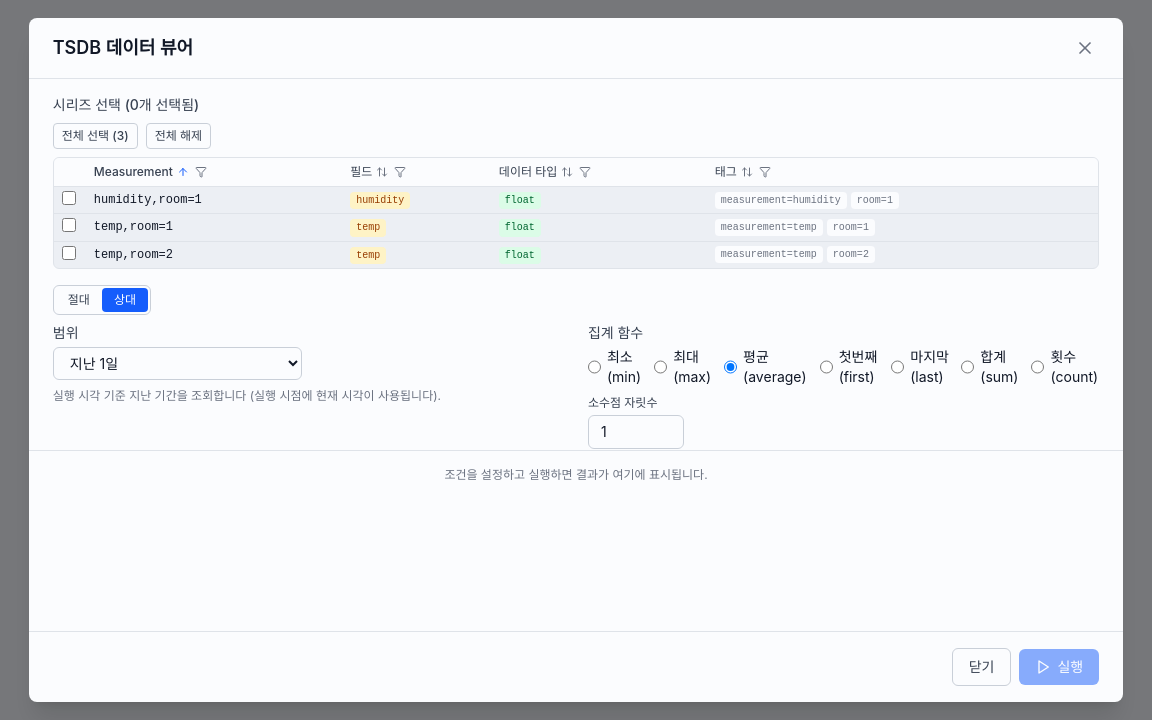
it: SeriesDataViewerModal › 모달 오픈 시 기본 시간 범위 = 지난 1일 (end=현재, start=현재-24h)
This screenshot has width=1152, height=720.
Note: 기본 모드는 상대이지만 절대 모드의 datetime 입력 초기값을 검증한다.
Click the tab with test id "tsdb-range-mode-absolute": point(79, 300) 56,288 -> 102,312
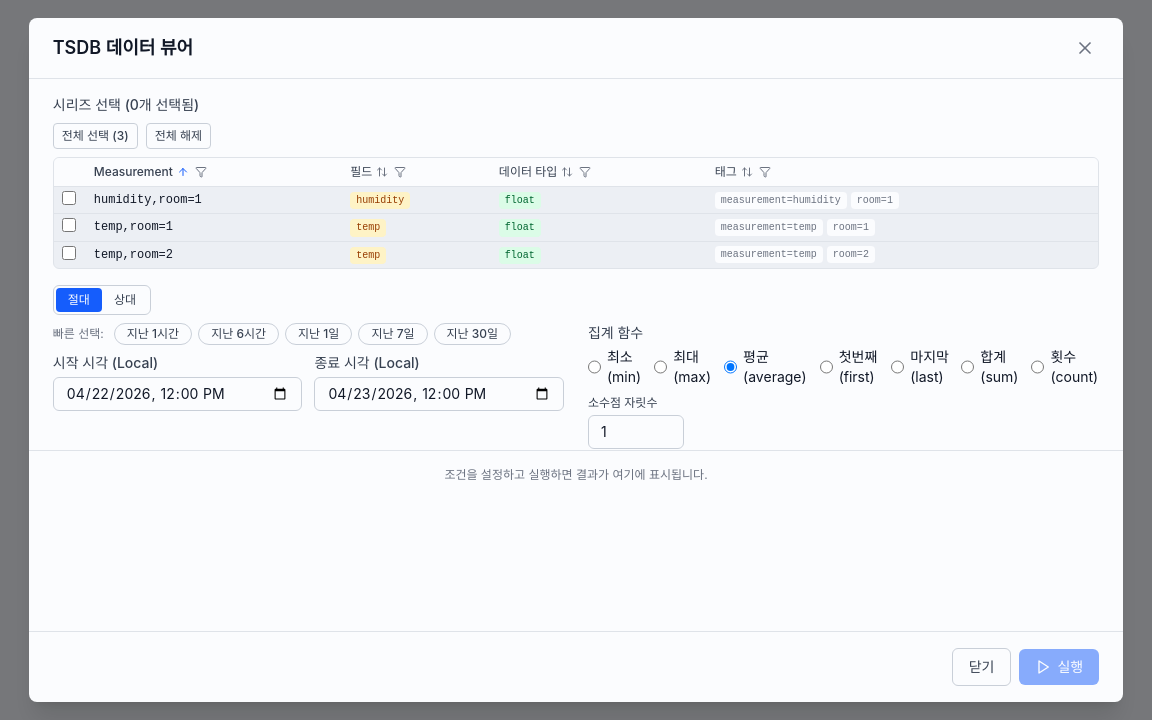
Expected: the field labelled "종료 시각 (Local)" holds "2026-04-23T12:00", 314,377 -> 564,411
